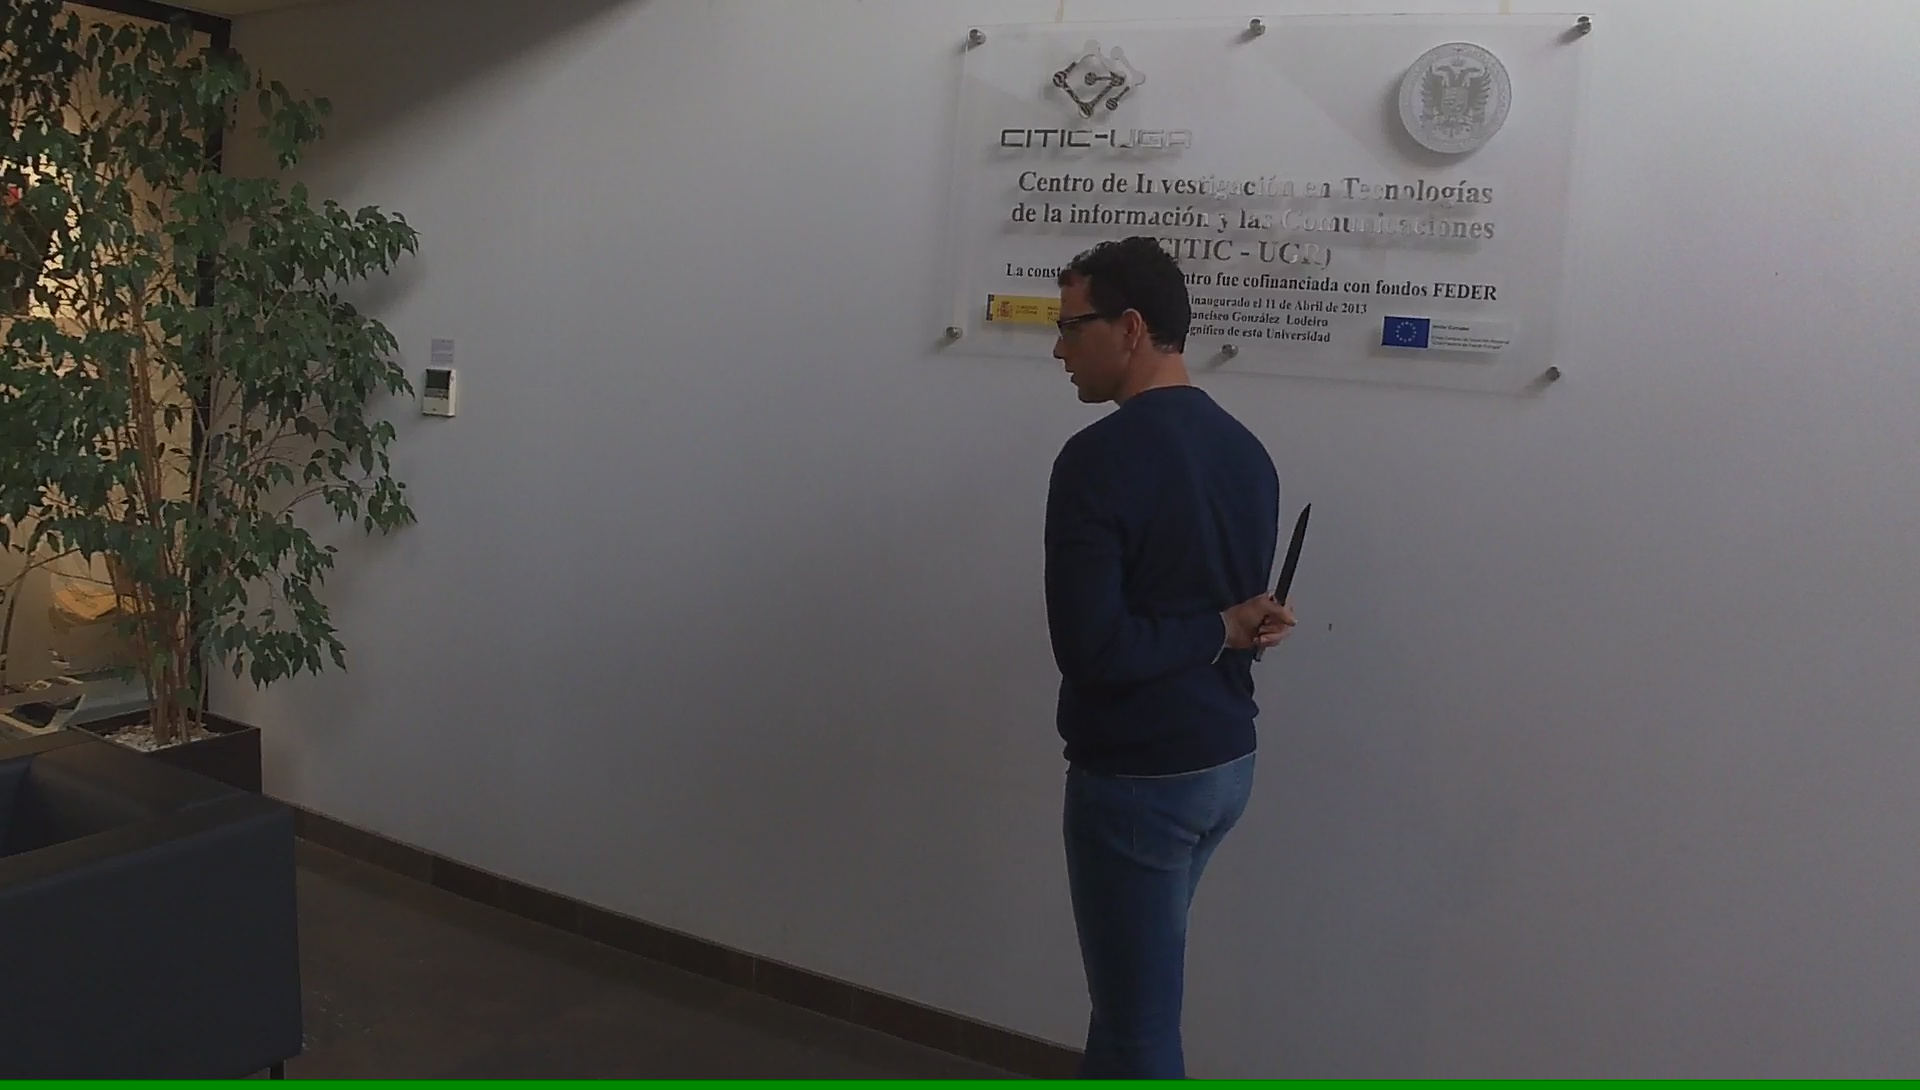knife: (1250, 493, 1321, 666)
